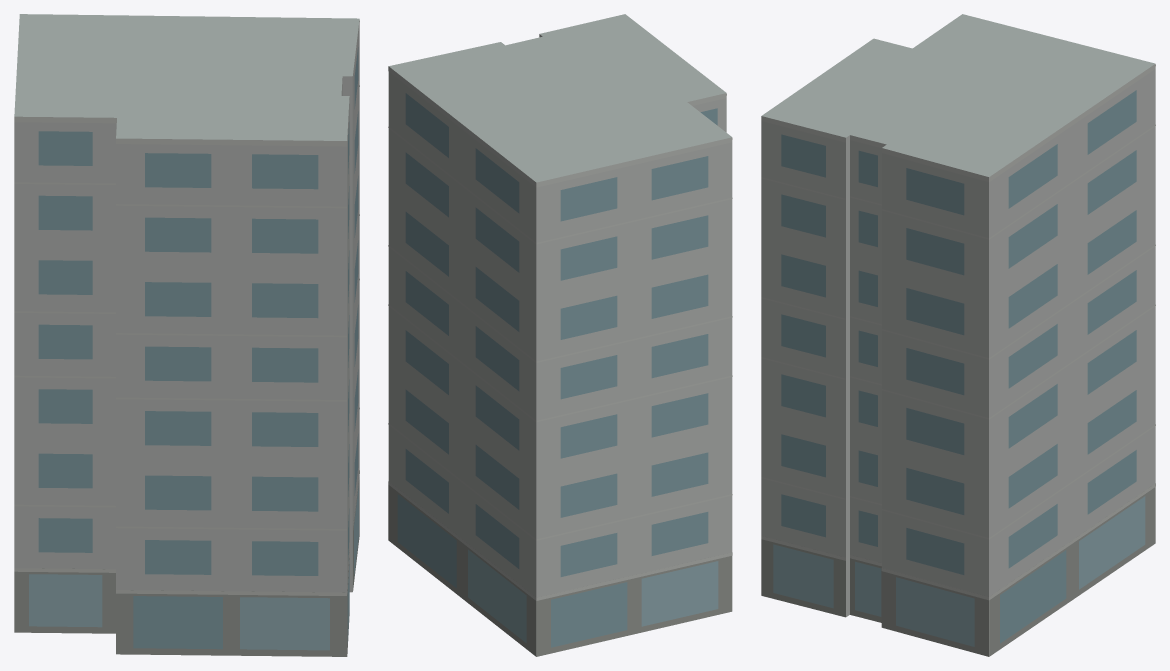
The model's file is survey-upis-32957580.glb.
3 views of the same model, side by side, from view 1: azimuth 30°, elevation 25°; view 2: azimuth 150°, elevation 25°; view 3: azimuth 270°, elevation 25° (orthographic). The views are drawn at different scales.
Visible parts, largest first — view 1: survey-upis-32957580.tmp; view 2: survey-upis-32957580.tmp; view 3: survey-upis-32957580.tmp.
Boxes of the visible parts, left/top/right/bottom form: survey-upis-32957580.tmp: left=14, top=14, right=359, bottom=656; survey-upis-32957580.tmp: left=388, top=14, right=732, bottom=656; survey-upis-32957580.tmp: left=761, top=14, right=1155, bottom=656.
Size of the model in its own units: 16.77 by 22.95 by 17.12.
